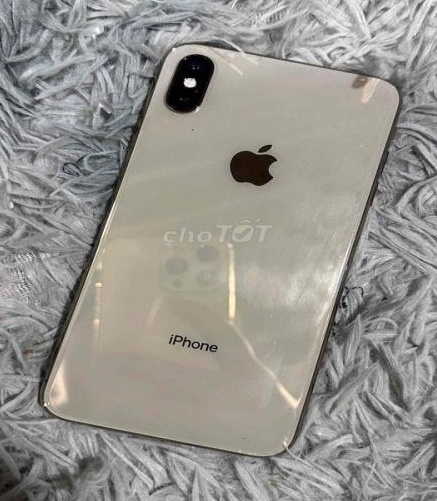scratch: (228, 424, 261, 450), (182, 125, 202, 134), (354, 139, 367, 151), (179, 54, 191, 63)
